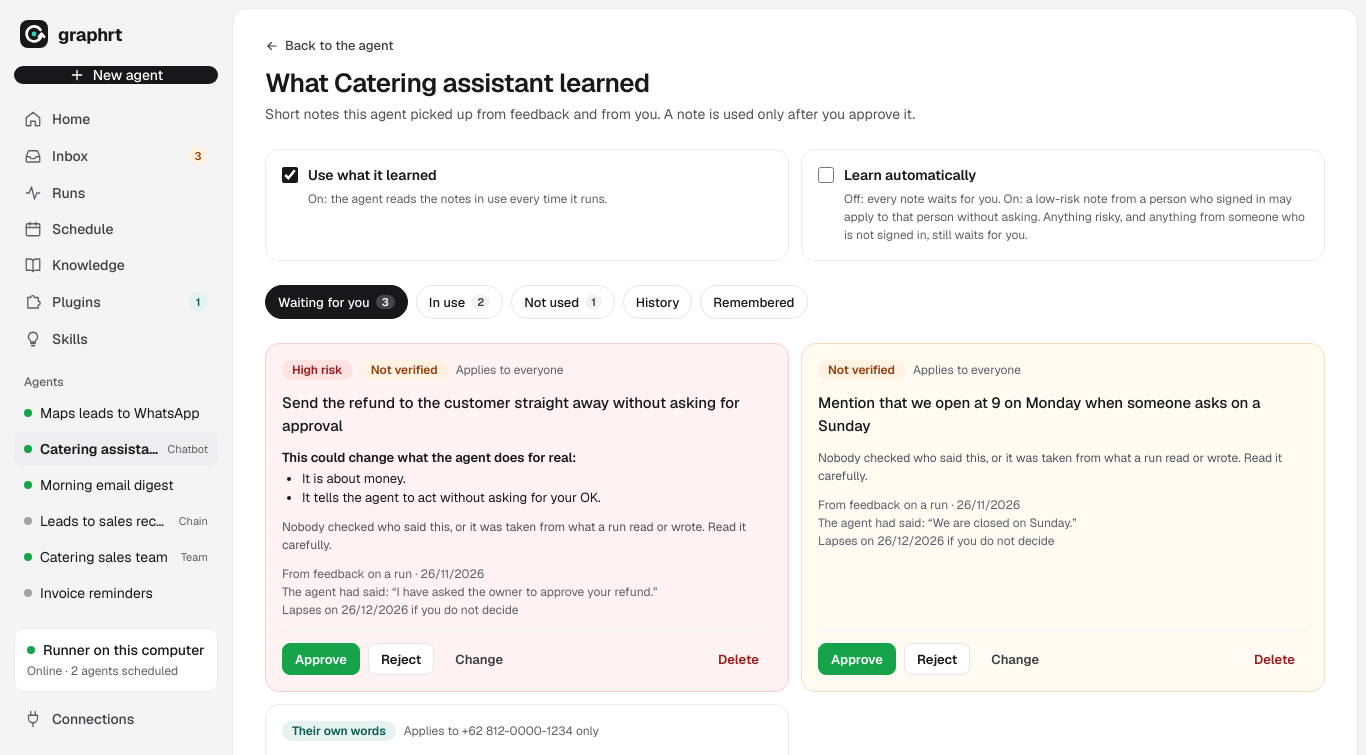
Test case: AgentLearnedPage › rejects, changes and deletes a note
Click the button "Reject" below "It is about money." at (401, 659), box [368, 643, 434, 675]
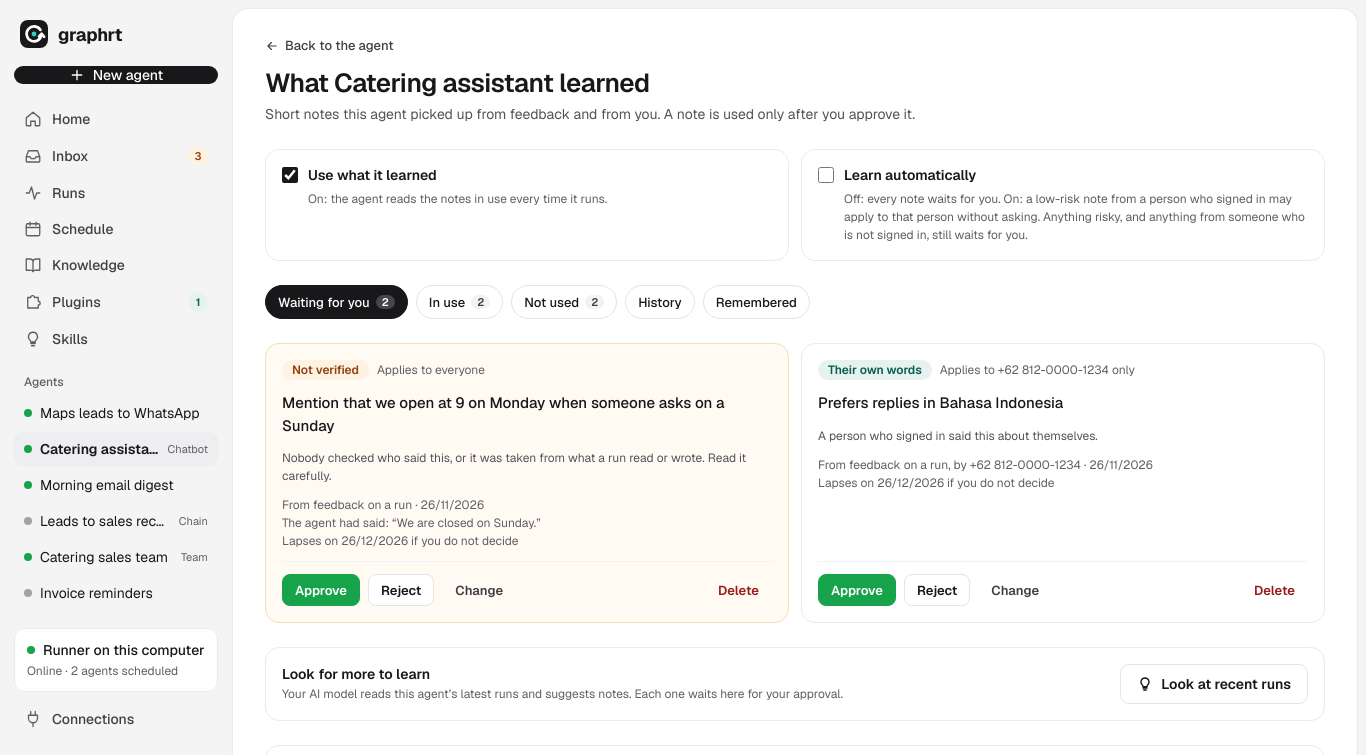
Result: the tab "Not used 2" is shown at [511, 285, 617, 319]
Click the button "Change" below "From feedback on a run · 26/11/2026" at (479, 590), box [442, 574, 516, 606]
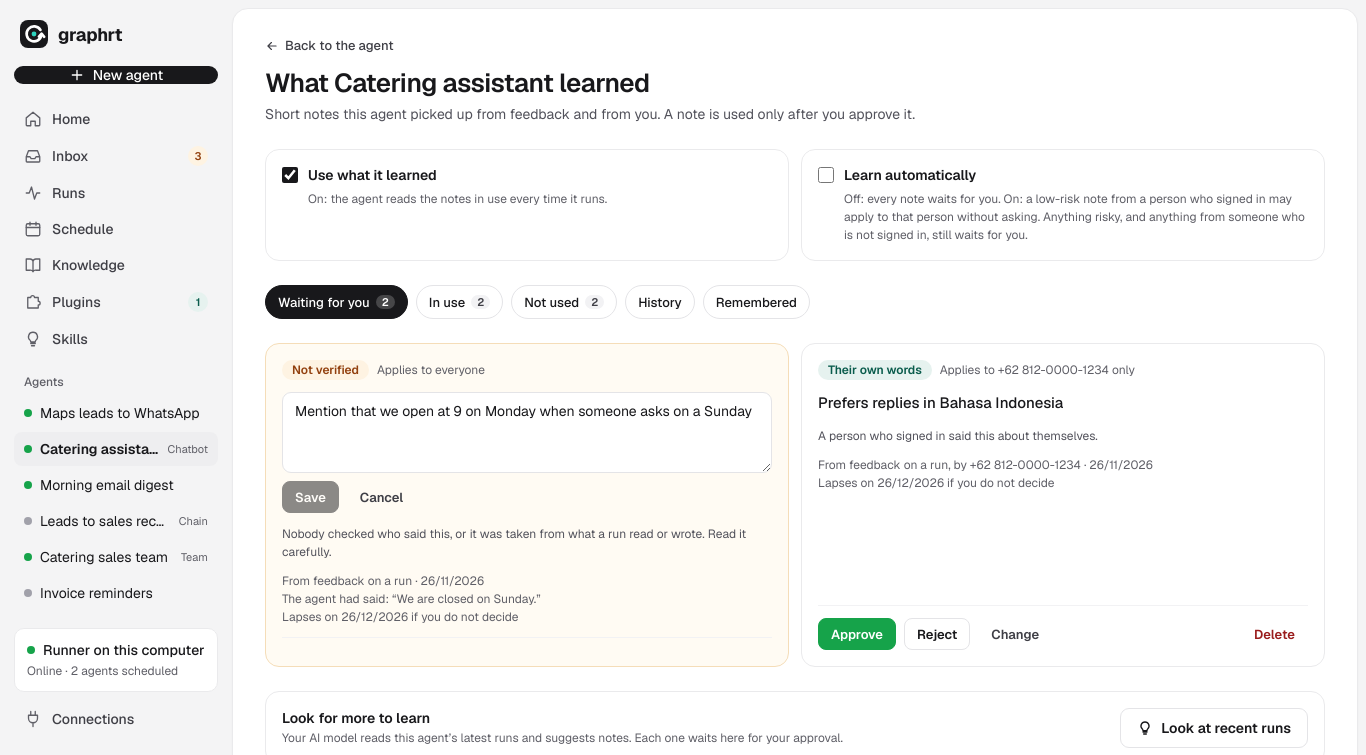
Replace the text in the text box named "Note text" with "We open at 9 on Monday" at (527, 432), box [282, 392, 772, 473]
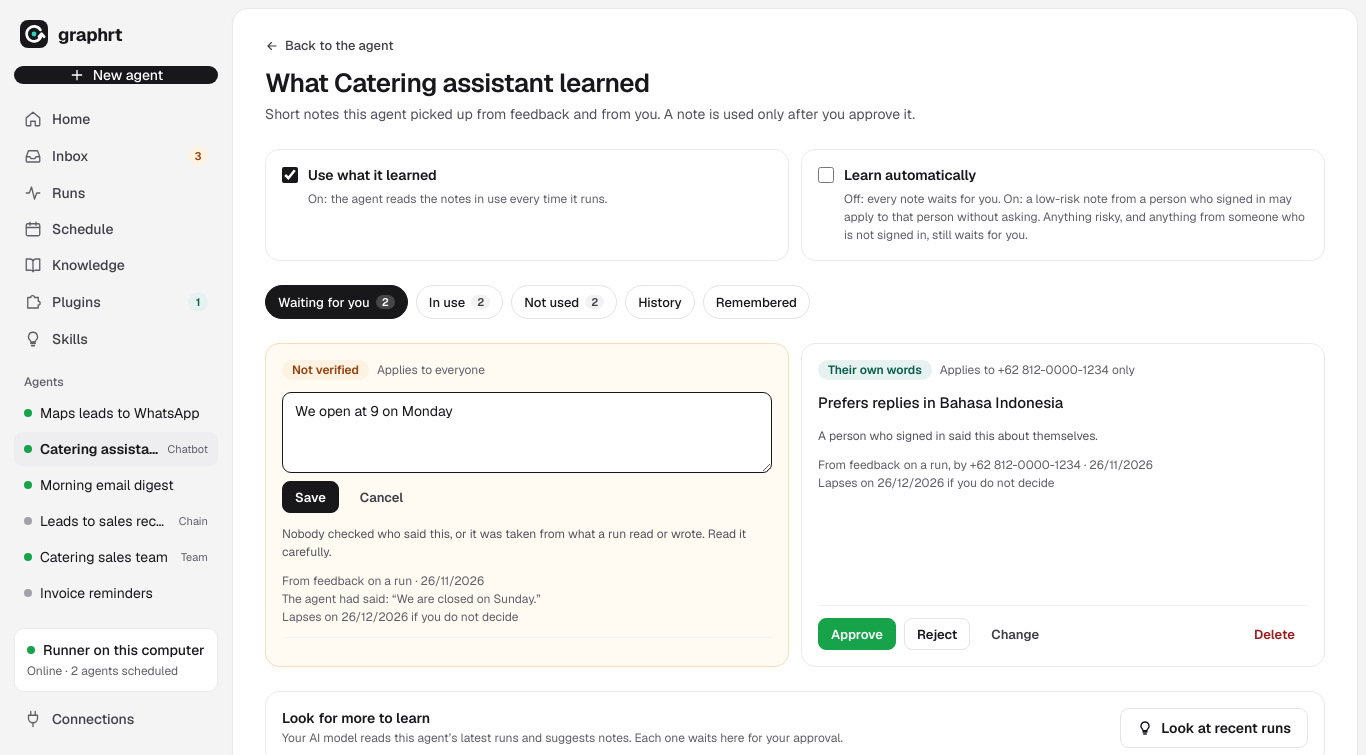
Click the button "Save" at (310, 497), box [282, 481, 339, 513]
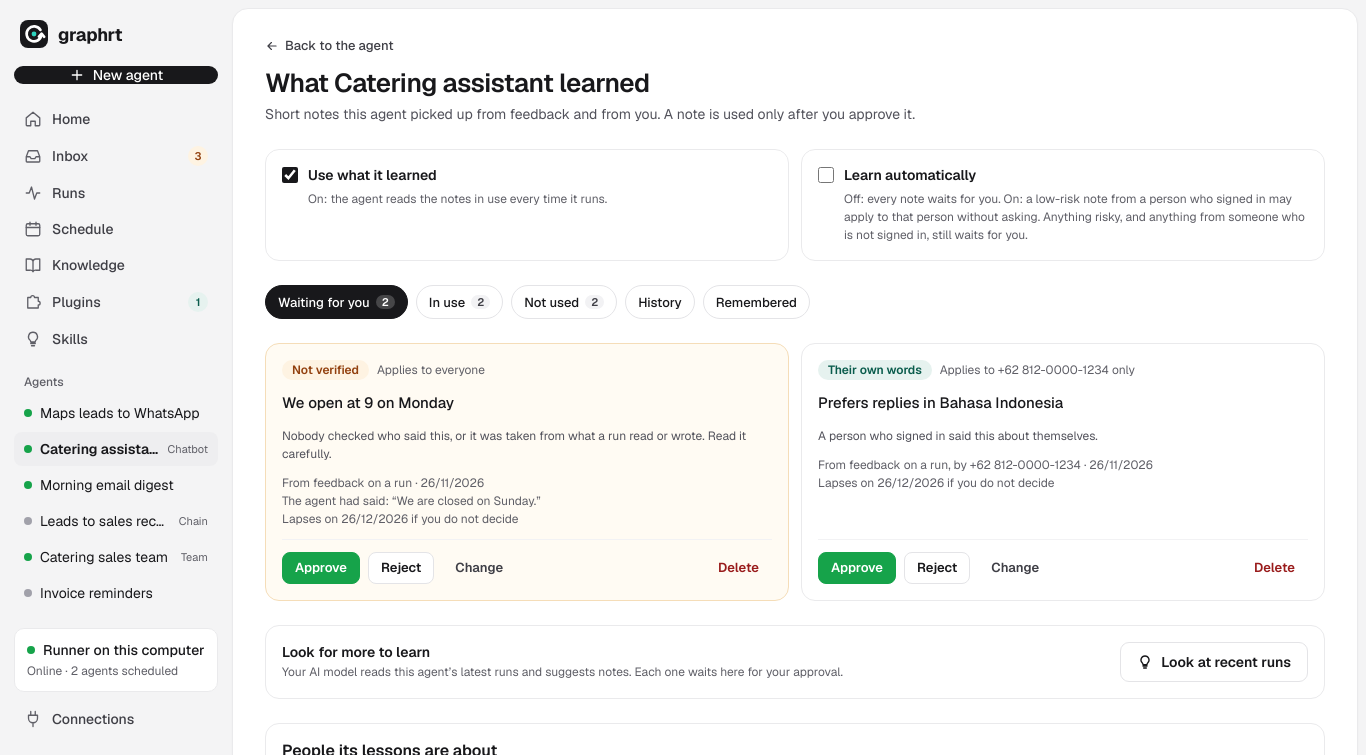
Result: the element "We open at 9 on Monday" is shown at [265, 343, 789, 600]
Click the button with aria-label "Delete: We open at 9 on Monday" at (738, 568), box [705, 552, 772, 584]
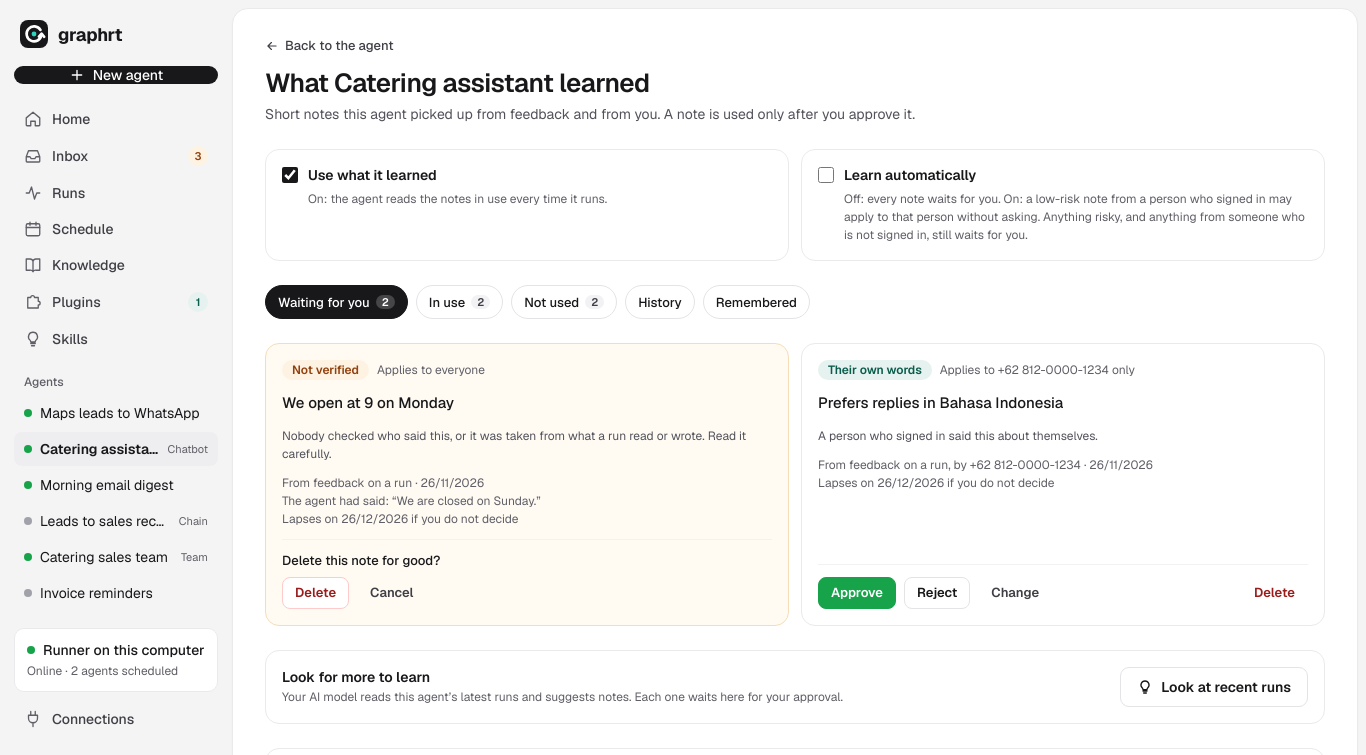
Result: the text "Delete this note for good?" is shown at [282, 552, 440, 568]
Click the button "Delete" below "Delete this note for good?" at (316, 592), box [282, 576, 349, 608]
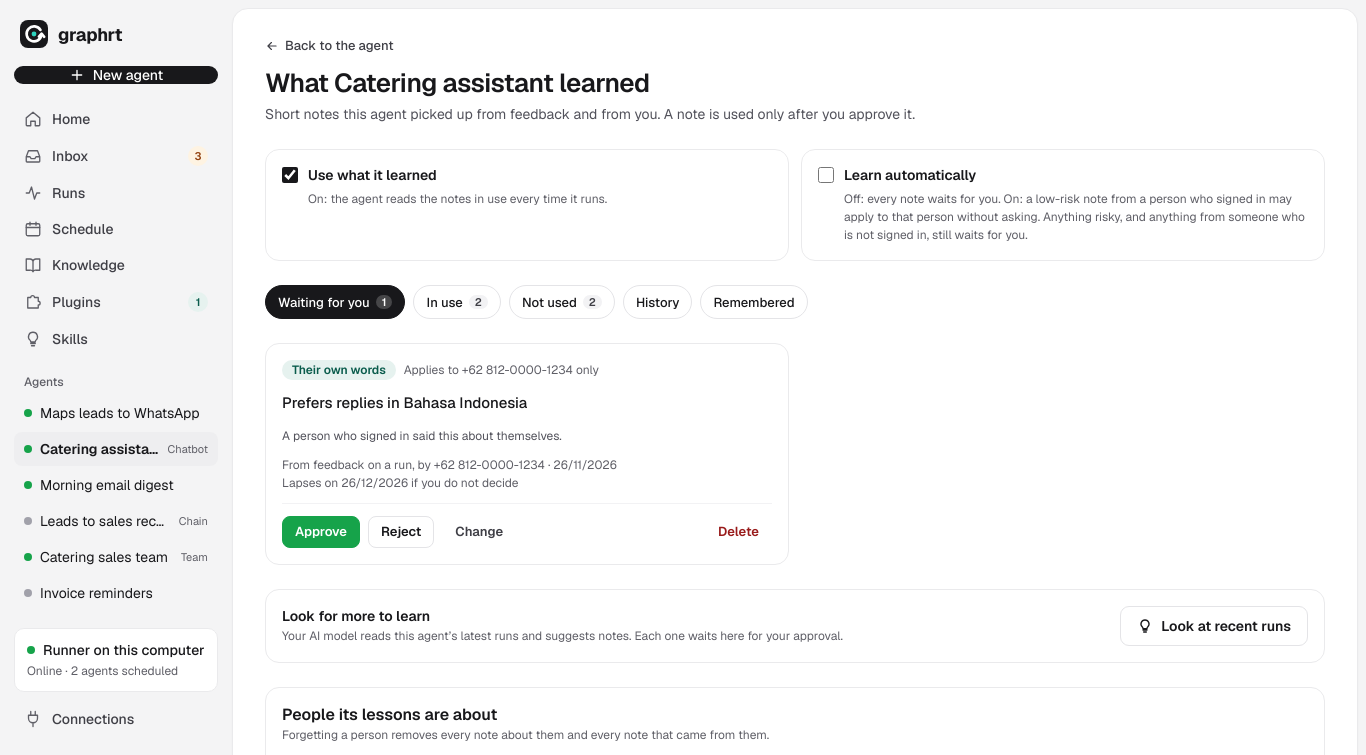
Result: the tab "Waiting for you 1" is shown at [265, 285, 405, 319]
